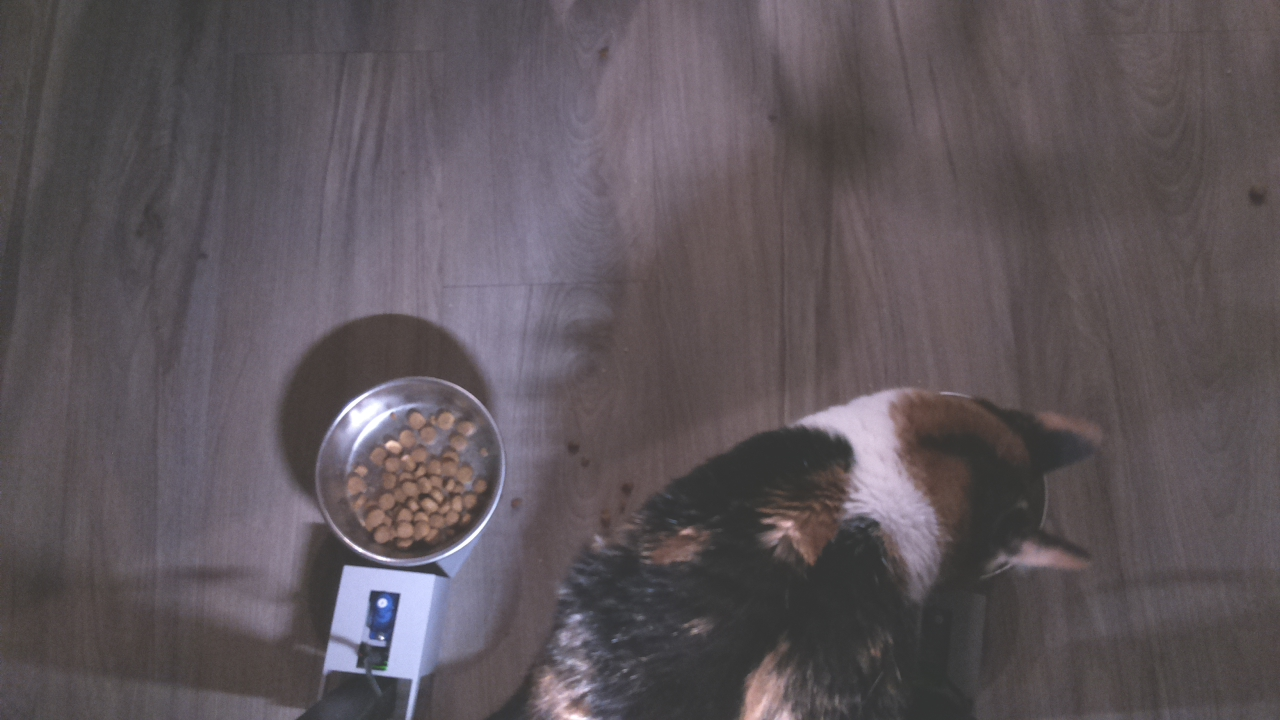bella_eating: (787, 363, 1122, 596)
open_bowl: (311, 370, 509, 569)
